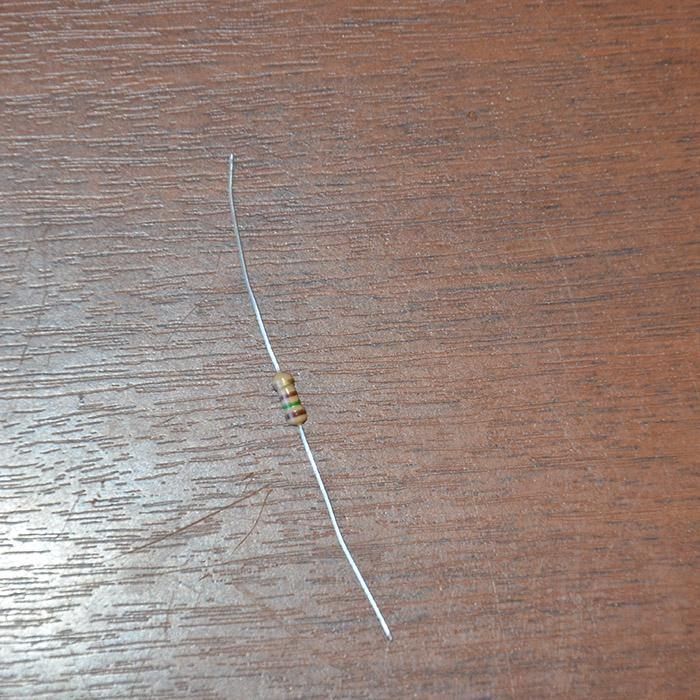resistor: (270, 370, 306, 425)
